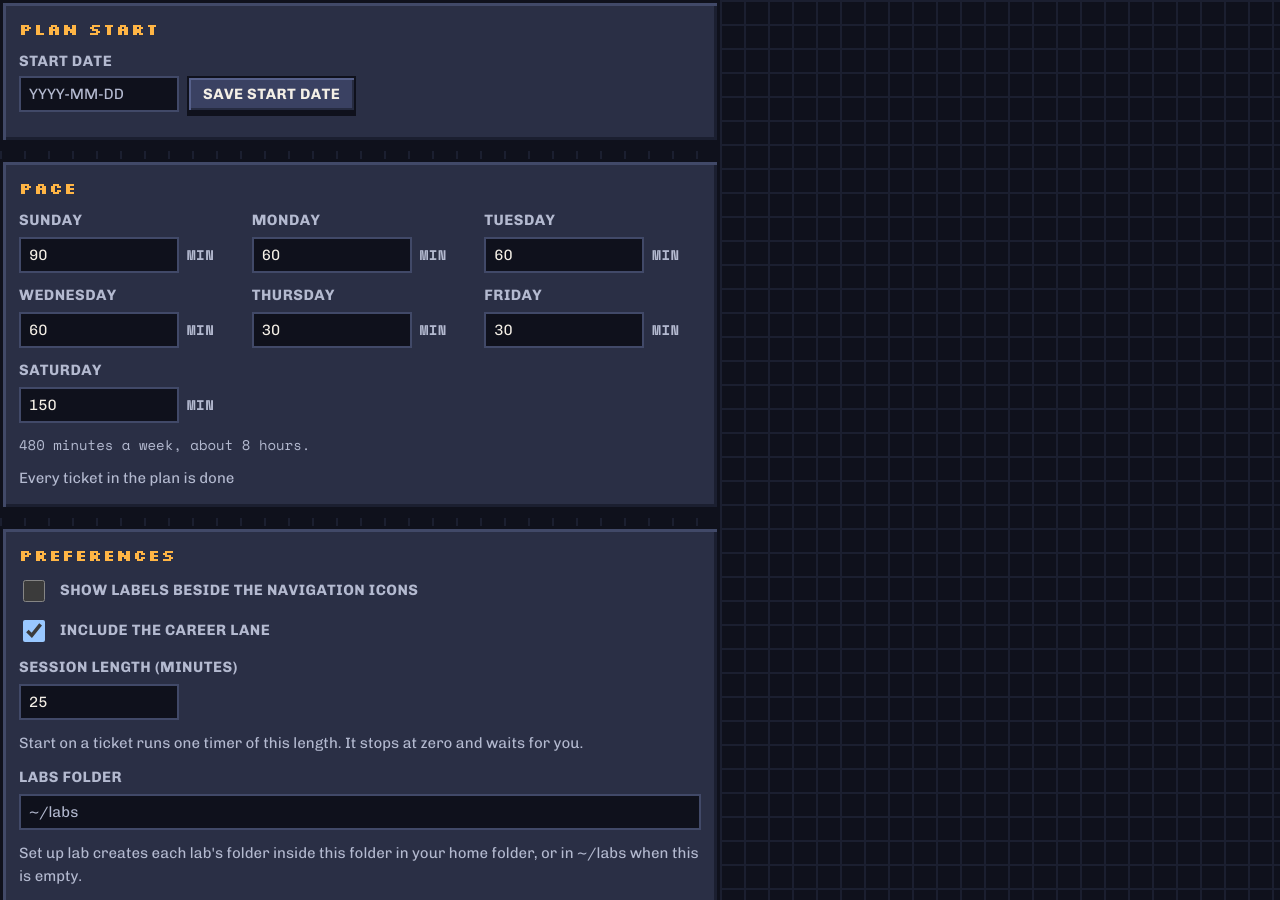
Test: Settings screen › rejects an invalid start date
Click the button "Save start date". click: (272, 94)
box: top-left (187, 76), bottom-right (356, 112)
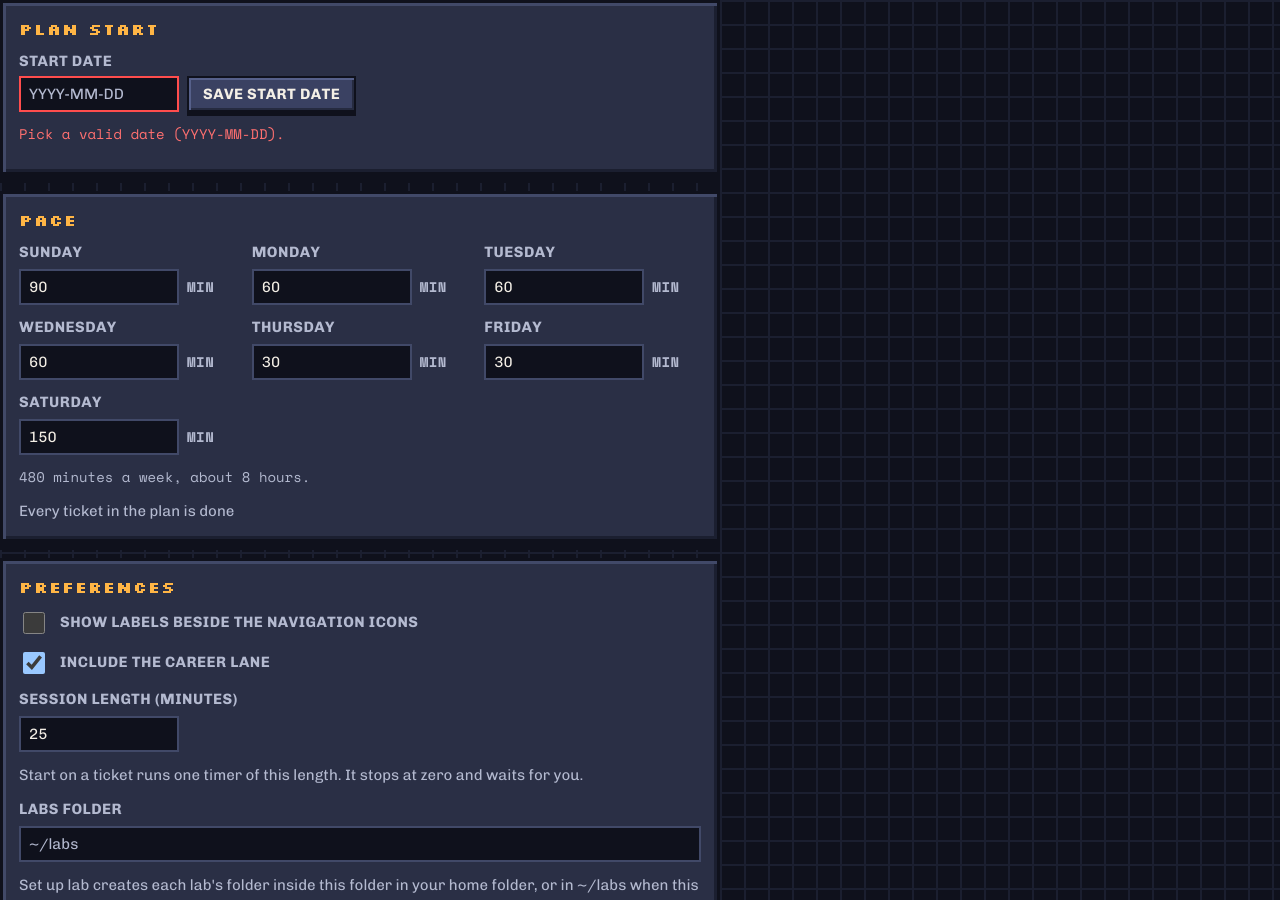
Now the message reads "Pick a valid date (YYYY-MM-DD).", box top-left (19, 123), bottom-right (285, 144)
and it goes when a valid date is typed
Type "2026-09-14" into the field labelled "Start date". click: (99, 94)
box: top-left (19, 76), bottom-right (179, 112)
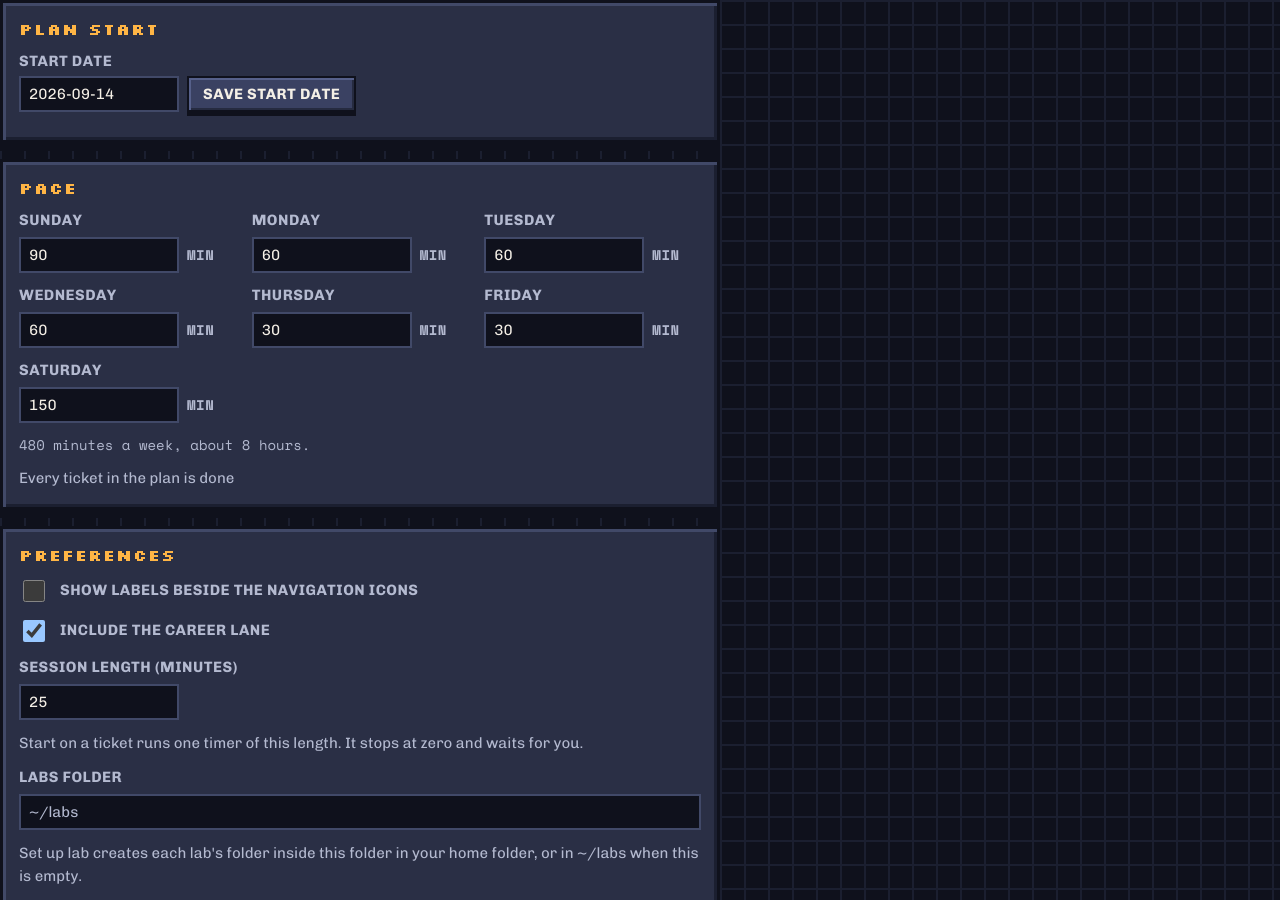
Now the message "Pick a valid date (YYYY-MM-DD)." is gone
